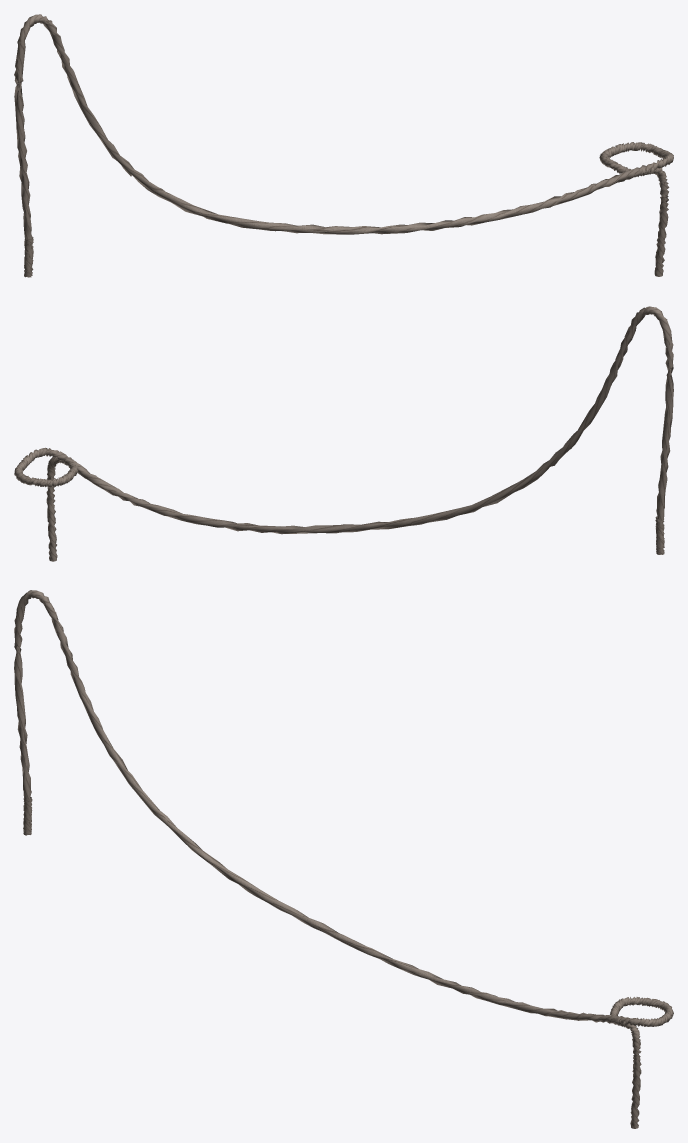
Rendered from SM_RopeSplineMesh_Splines_31.fbx.
3 views of the same model, one above another, from view 1: azimuth 30°, elevation 25°; view 2: azimuth 150°, elevation 25°; view 3: azimuth 330°, elevation 25° (orthographic). The views are drawn at different scales.
Visible parts, largest first — view 1: SM_RopeSplineMesh_Splines_31; view 2: SM_RopeSplineMesh_Splines_31; view 3: SM_RopeSplineMesh_Splines_31.
Part boxes in pixels (x1=…): SM_RopeSplineMesh_Splines_31: x1=14, y1=14, x2=673, y2=277; SM_RopeSplineMesh_Splines_31: x1=14, y1=306, x2=673, y2=561; SM_RopeSplineMesh_Splines_31: x1=14, y1=590, x2=673, y2=1128.
Bounding box in the file's own units: 207 × 21.44 × 123.
